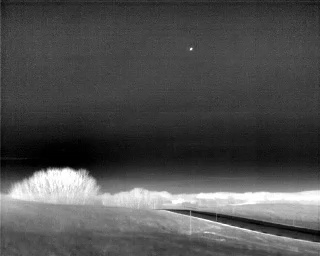BIRD: (187, 44, 195, 53)
